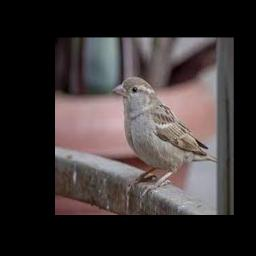Sparrow: (112, 76, 218, 196)
